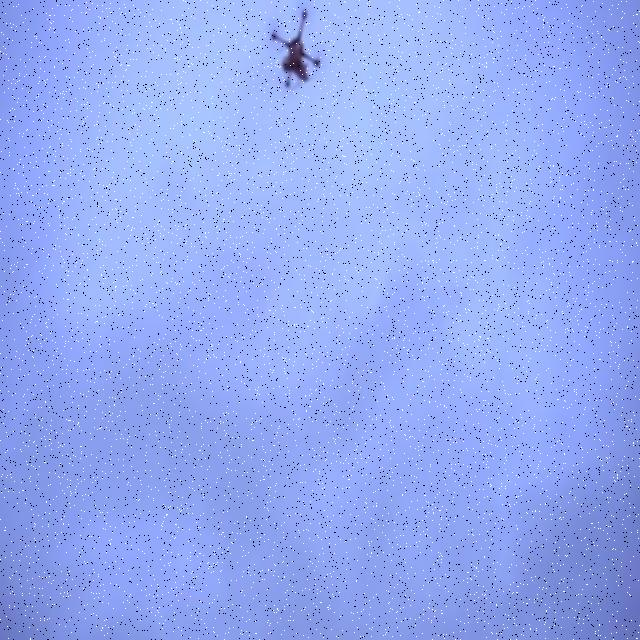UAV: (272, 10, 320, 91)
